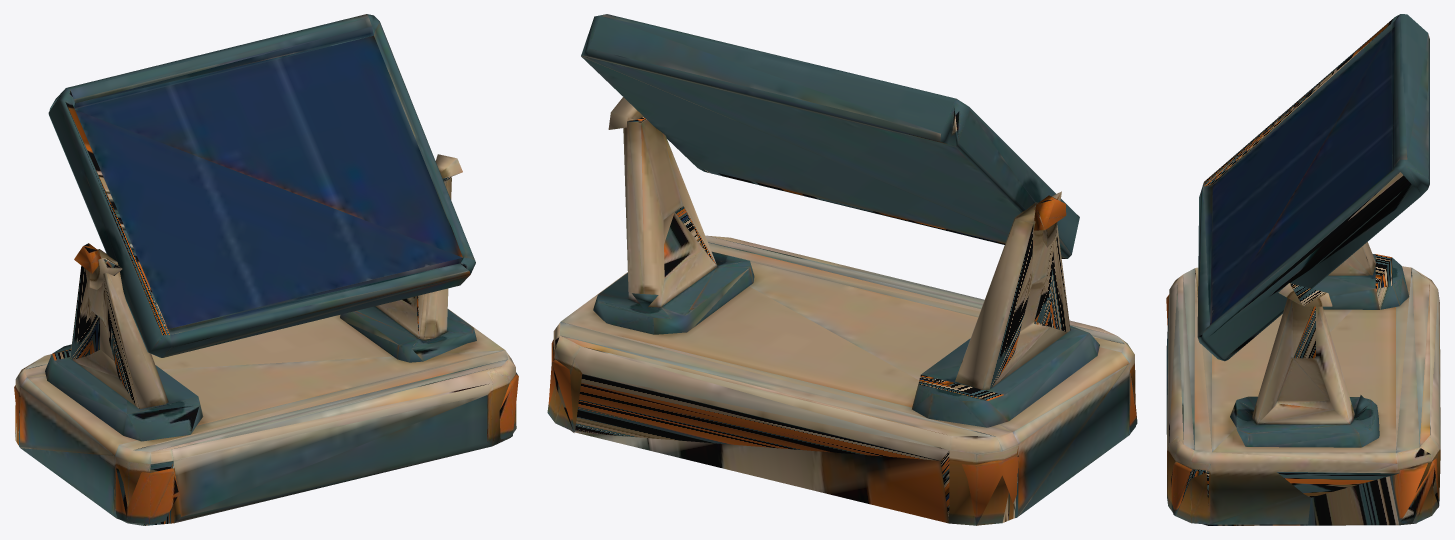
The model's file is solar_array-lod1.5a667843539f.glb.
The picture shows the model from 3 angles, left to right: view 1: azimuth 30°, elevation 25°; view 2: azimuth 150°, elevation 25°; view 3: azimuth 270°, elevation 25°; orthographic projection. The views are drawn at different scales.
Parts seen in each view (by area): view 1: geometry_0; view 2: geometry_0; view 3: geometry_0.
Boxes of the visible parts, x1,y1,x2,y2 form: geometry_0: [14, 14, 518, 525]; geometry_0: [547, 14, 1137, 525]; geometry_0: [1166, 14, 1440, 525].
Bounding box in the file's own units: 1 × 0.833 × 0.6014.
1 material, 1 textured.
